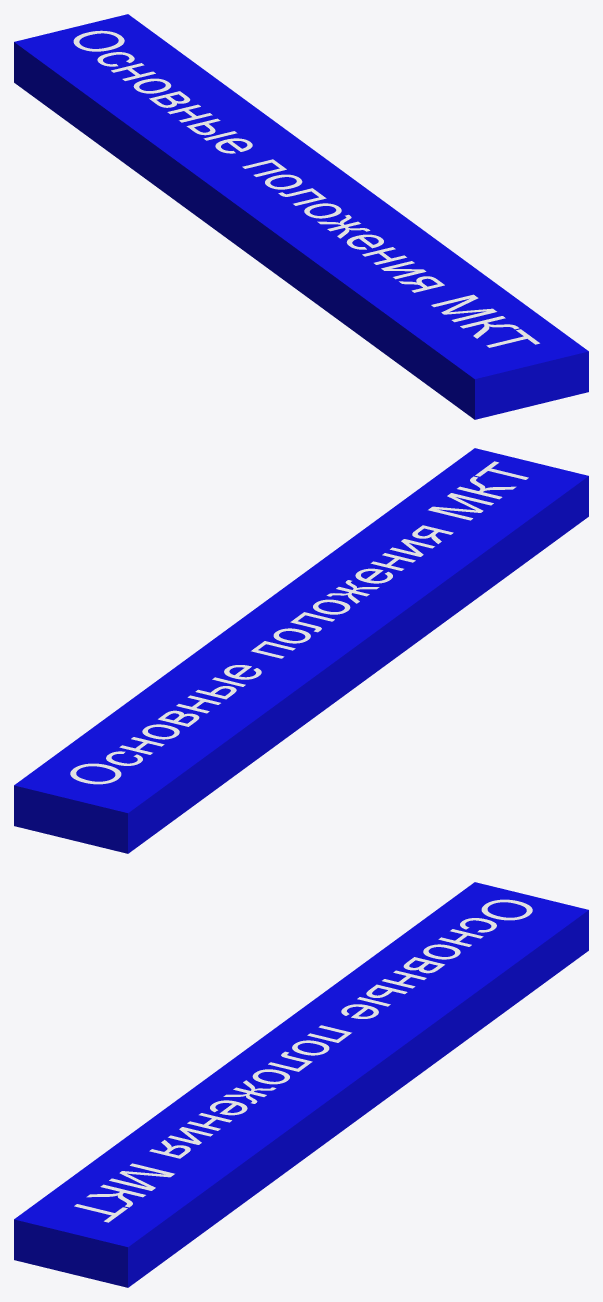
File: polozMKT.FBX
3 views of the same model, one above another, from view 1: azimuth 30°, elevation 25°; view 2: azimuth 150°, elevation 25°; view 3: azimuth 330°, elevation 25° (orthographic).
Parts seen in each view (by area): view 1: Box001, Text001; view 2: Box001, Text001; view 3: Box001, Text001.
Part boxes in pixels (box(x1,y1,x2,y2)): Box001: box(14, 14, 588, 419); Text001: box(73, 30, 539, 347); Box001: box(14, 448, 588, 853); Text001: box(70, 461, 528, 784); Box001: box(14, 882, 588, 1287); Text001: box(74, 899, 532, 1222).
Size of the model in its own units: 18.63 by 7.23 by 130.
